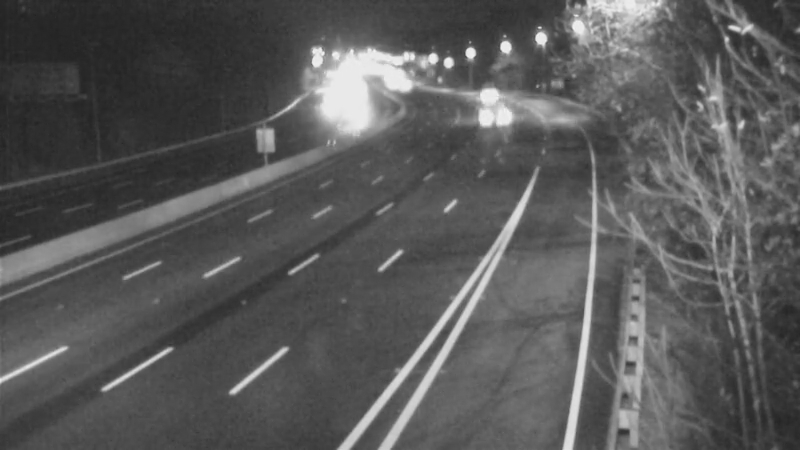vehicle: (453, 70, 503, 120), (465, 94, 515, 144)
